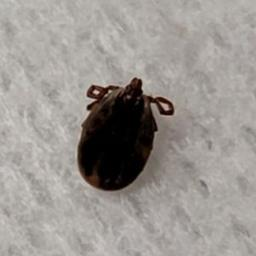Rhipicephalus sanguineus: (77, 77, 175, 193)
